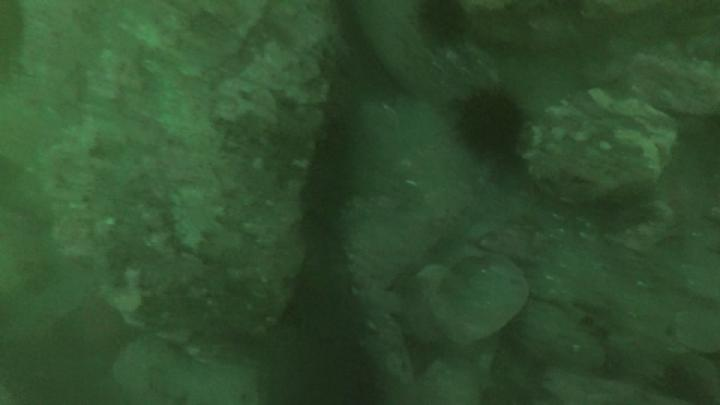echinus: (457, 93, 525, 158), (417, 2, 469, 47)
